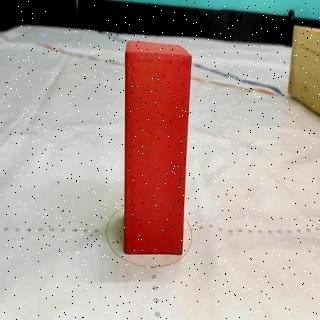redbox: (122, 40, 192, 257)
